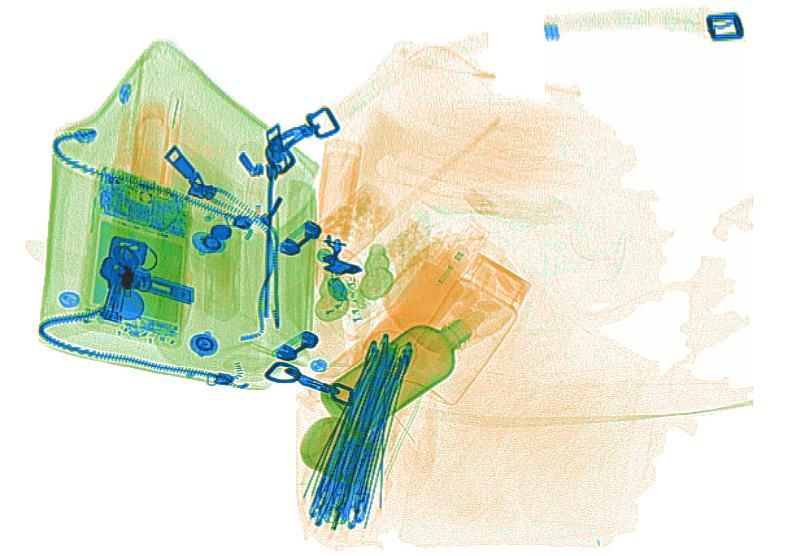plasticBottleWithaNozzle: (359, 220, 488, 379)
